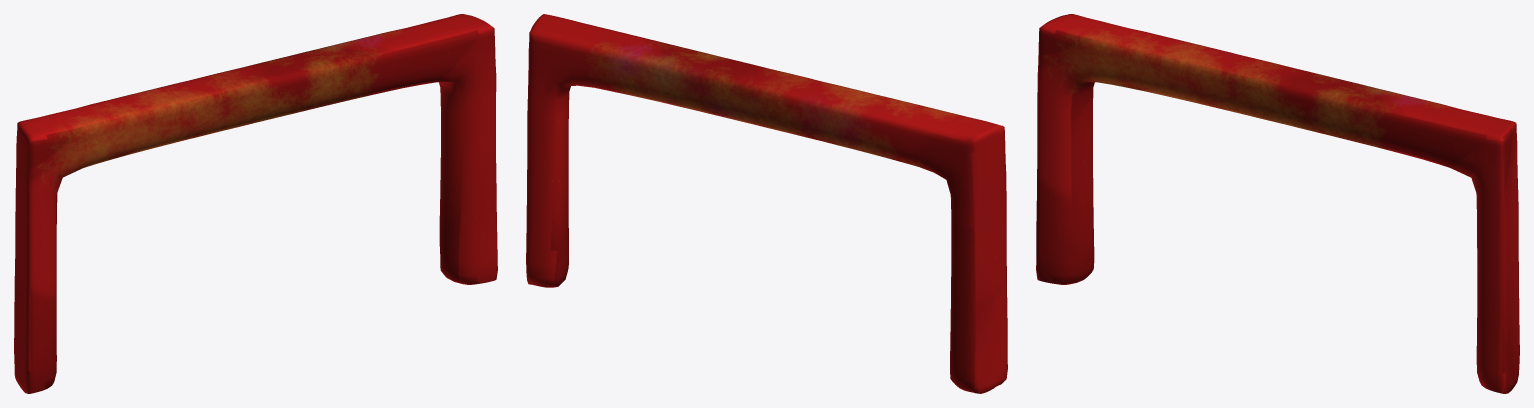
Rendered from pilar.fbx.
The picture shows the model from 3 angles, left to right: view 1: azimuth 30°, elevation 25°; view 2: azimuth 150°, elevation 25°; view 3: azimuth 330°, elevation 25°; orthographic projection.
Visible parts, largest first — view 1: Retopo_Cube; view 2: Retopo_Cube; view 3: Retopo_Cube.
Part boxes in pixels (<box>): Retopo_Cube: <box>14,14,497,393</box>; Retopo_Cube: <box>526,14,1007,393</box>; Retopo_Cube: <box>1036,14,1519,393</box>.
Bounding box in the file's own units: 3791 × 2006 × 366.
